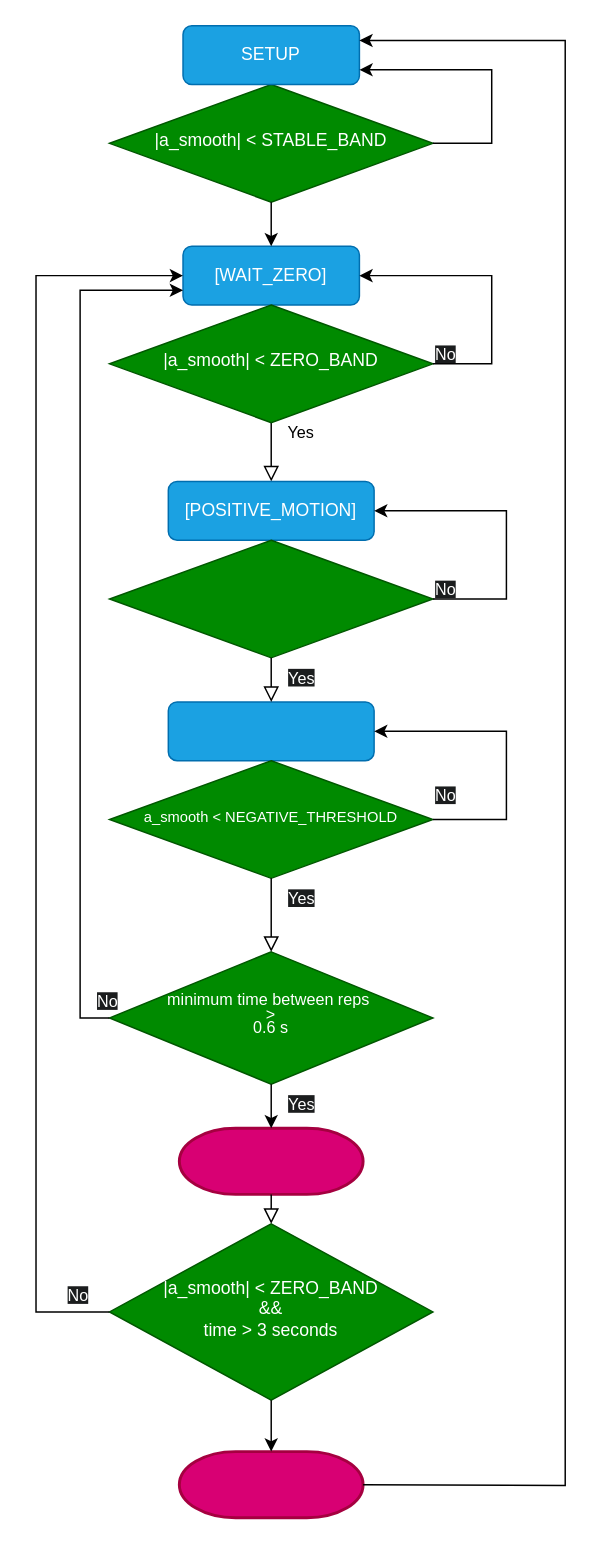
This 603x1545 diagram has some shape labels left out. Each missing label, with the centre of its shape:
"[NEGATIVE_MOTION]" goes at (270,730).
"a_smooth > POSITIVE_THRESHOLD" goes at (270,598).
"Repetition +1" goes at (270,1160).
"Start Rest Timer" goes at (270,1484).
